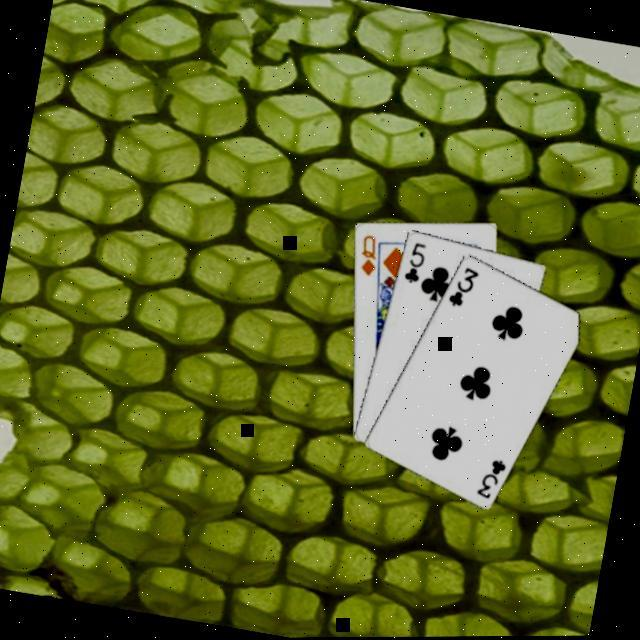3C: (444, 261, 484, 312), (472, 452, 511, 504)
5C: (400, 236, 430, 286)
QD: (354, 230, 385, 279)
